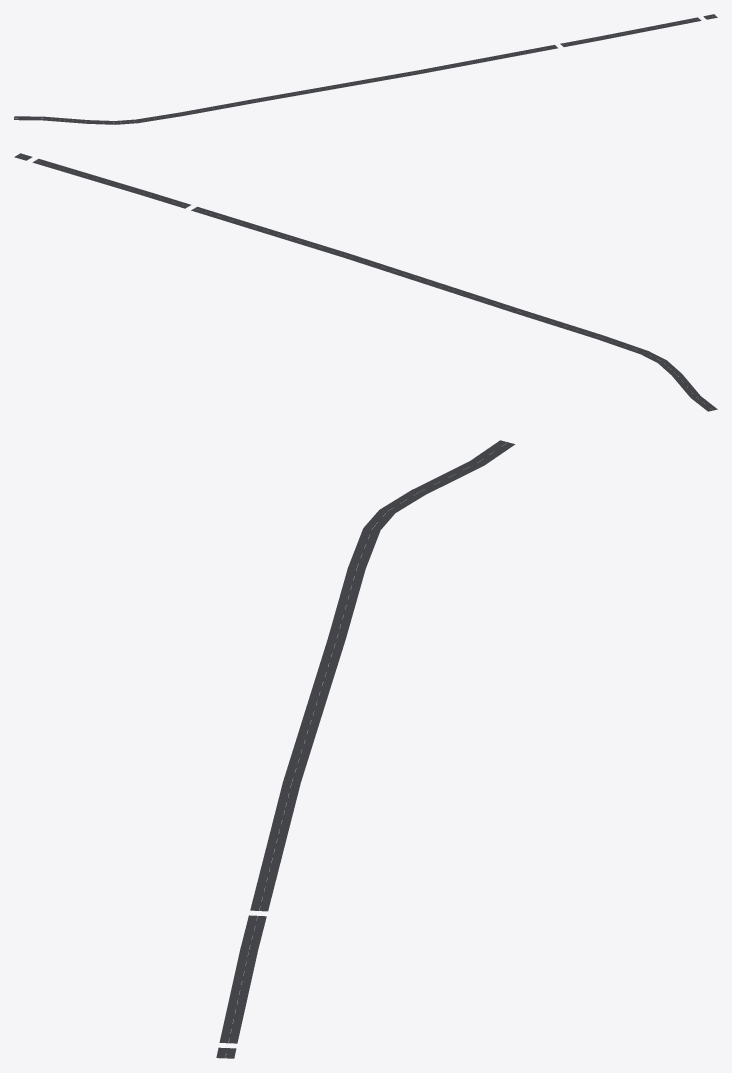
The model's file is district_-4_-2.glb.
3 renders of one model, top to bottom at view 1: azimuth 30°, elevation 25°; view 2: azimuth 150°, elevation 25°; view 3: azimuth 270°, elevation 25°, orthographic. The views are drawn at different scales.
Visible parts, largest first — view 1: Road Карачинская улица; view 2: Road Карачинская улица; view 3: Road Карачинская улица.
Part boxes in pixels (box(x1,y1,x2,y2)): Road Карачинская улица: box(14, 14, 717, 124); Road Карачинская улица: box(14, 153, 717, 411); Road Карачинская улица: box(216, 440, 515, 1058).
Size of the model in its own units: 575 by 0.05 by 118.
Materials: 2 (2 with a texture image).
